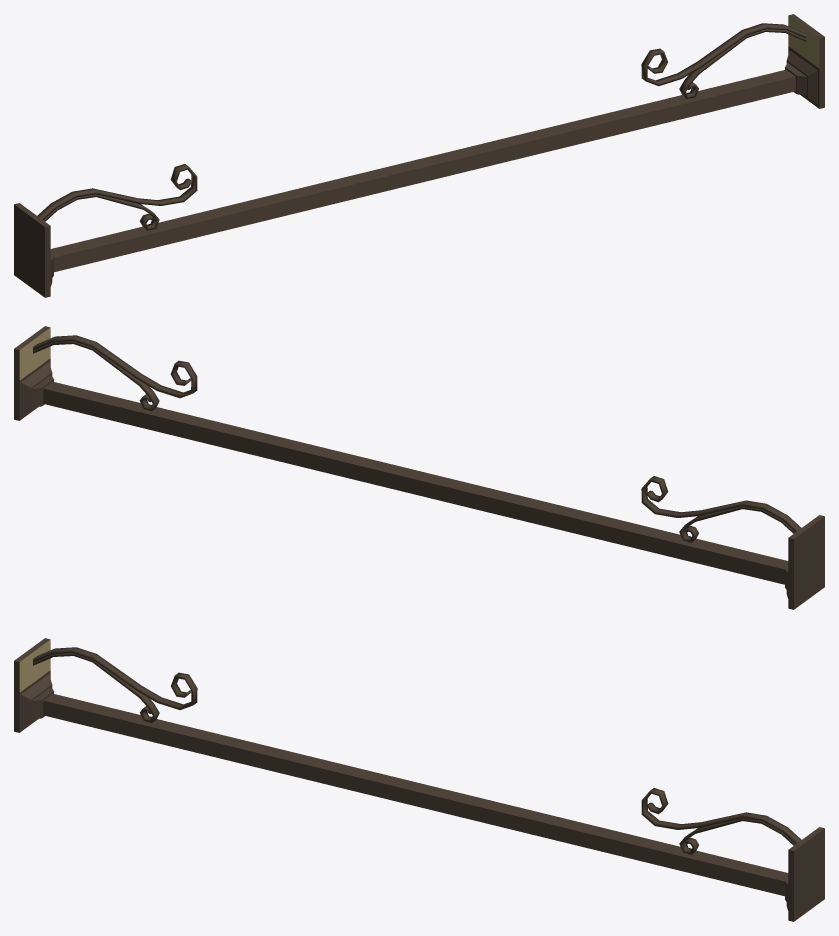
Rendered from PillerHolder.fbx.
3 renders of one model, top to bottom at view 1: azimuth 30°, elevation 25°; view 2: azimuth 150°, elevation 25°; view 3: azimuth 330°, elevation 25°, orthographic.
Visible parts, largest first — view 1: Cube.107; view 2: Cube.107; view 3: Cube.107.
Part boxes in pixels (bbox=[...]): Cube.107: bbox=[14, 14, 824, 297]; Cube.107: bbox=[14, 326, 824, 609]; Cube.107: bbox=[14, 638, 824, 921].
Size of the model in its own units: 223 by 22.66 by 15.43.
